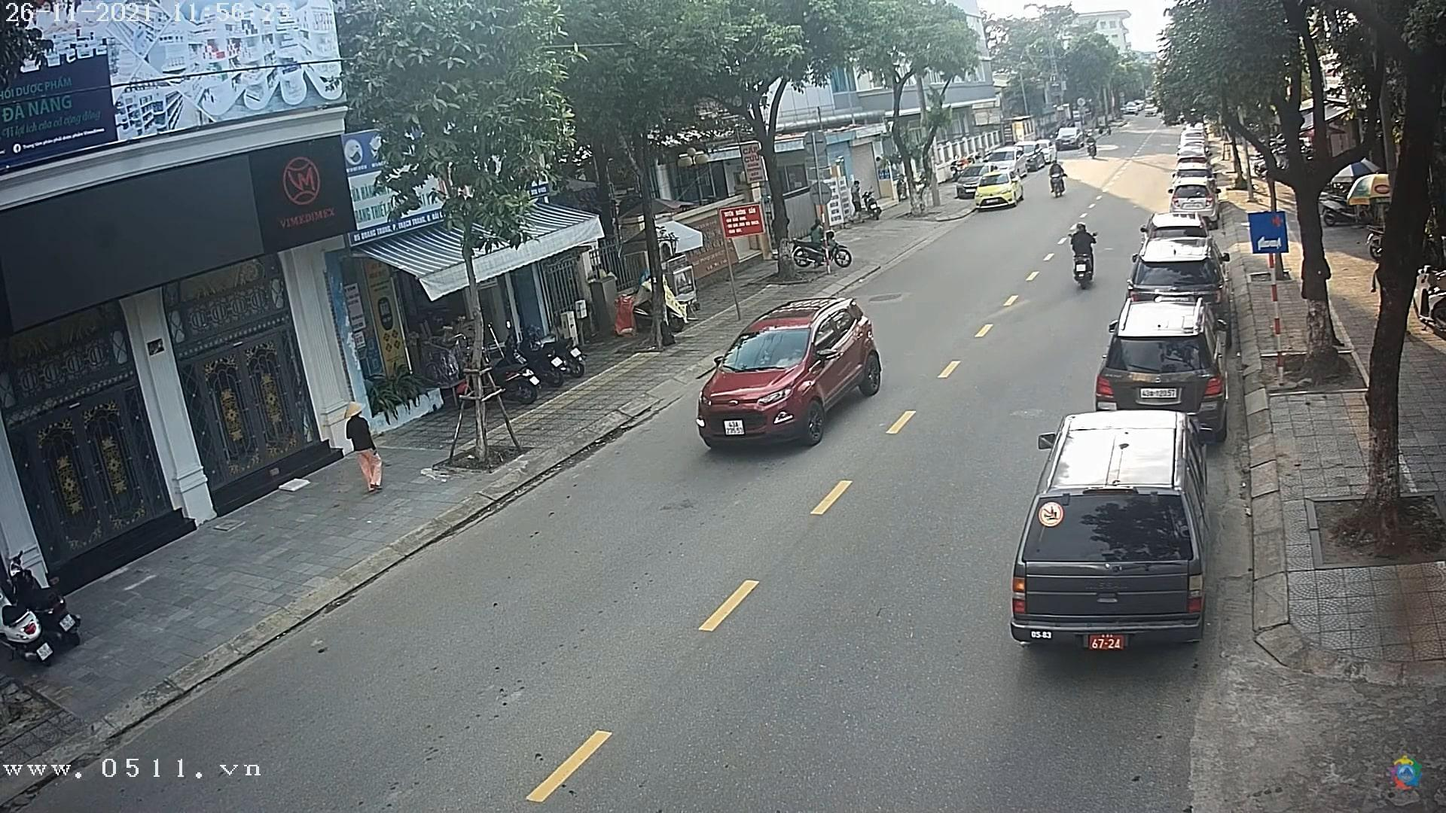bus: (1100, 301, 1225, 422)
car: (1013, 413, 1206, 651), (694, 295, 888, 451), (1128, 242, 1226, 303), (978, 169, 1024, 210)
motorbike: (1074, 251, 1099, 288)
